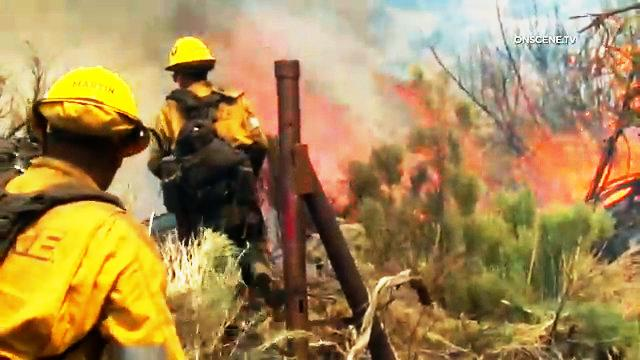fire: (522, 101, 635, 240)
smoke: (296, 9, 422, 77)
